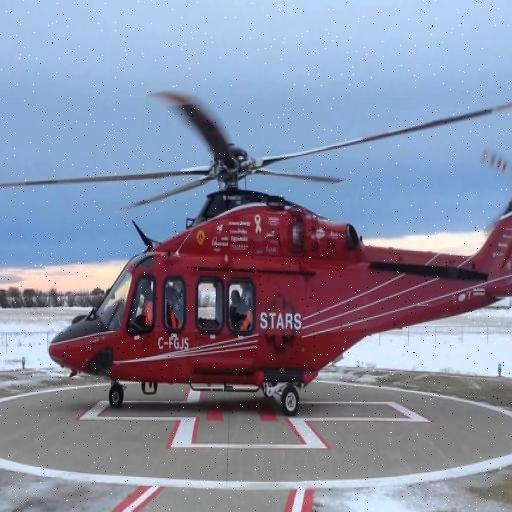helicopter: (40, 84, 512, 426)
